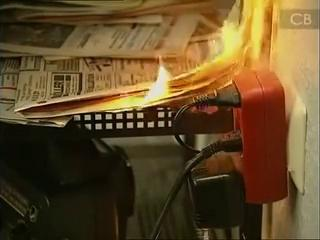Fire: (125, 2, 279, 104)
